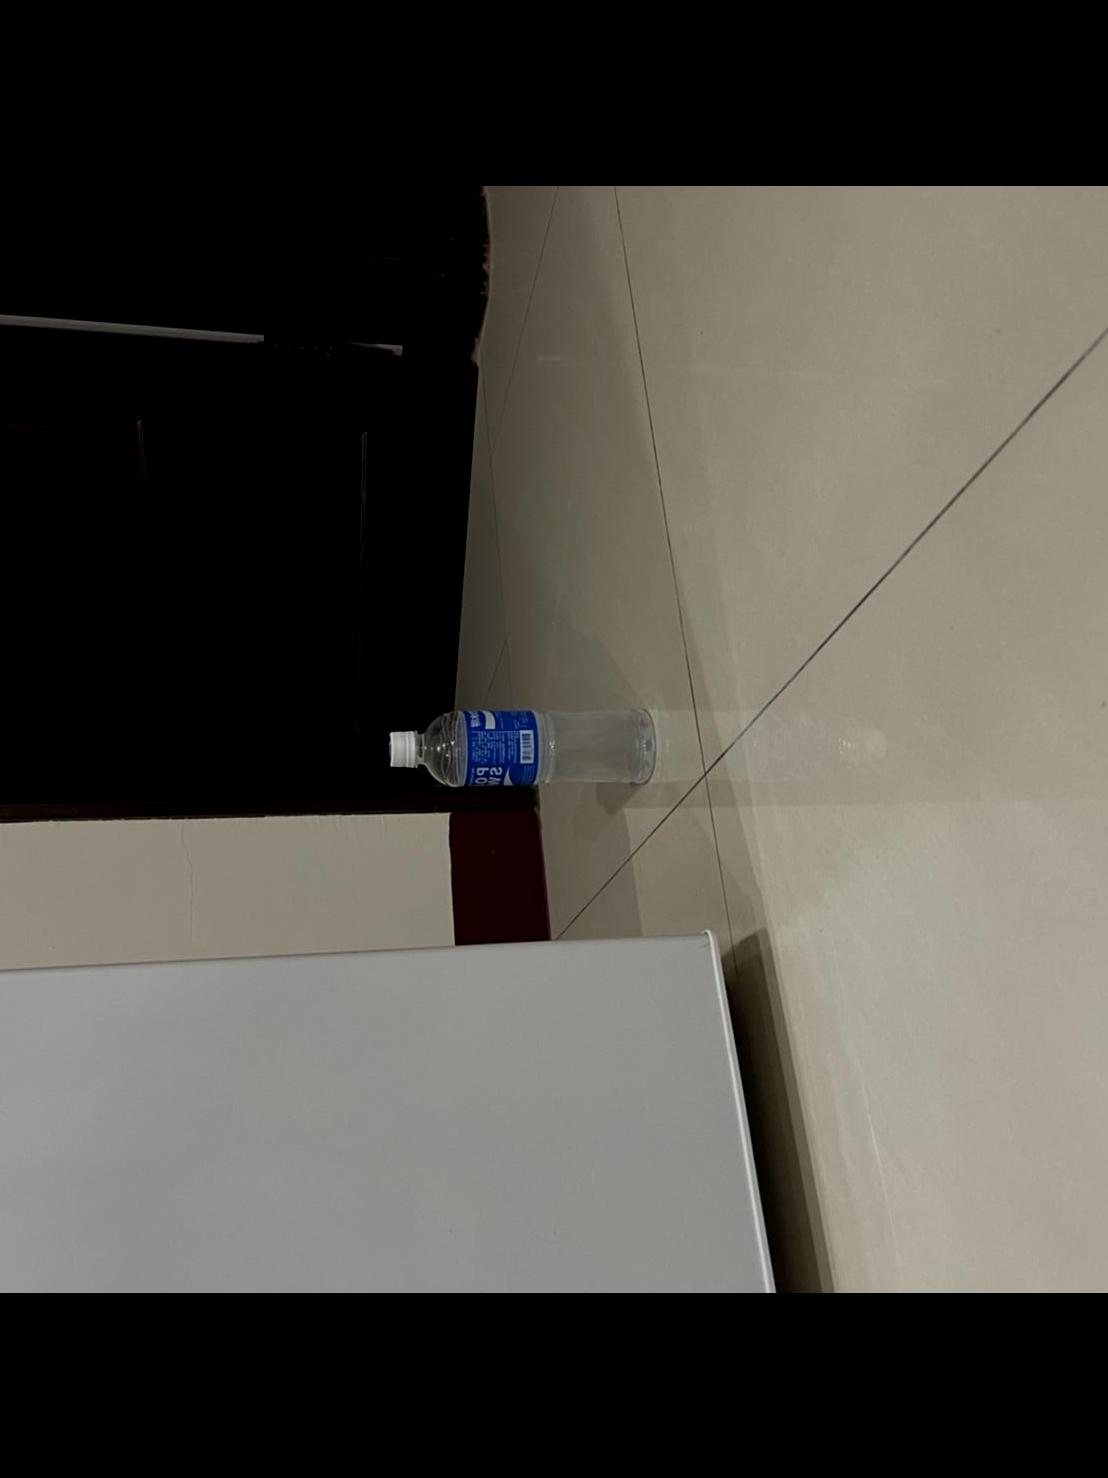bottle: (383, 699, 665, 791)
